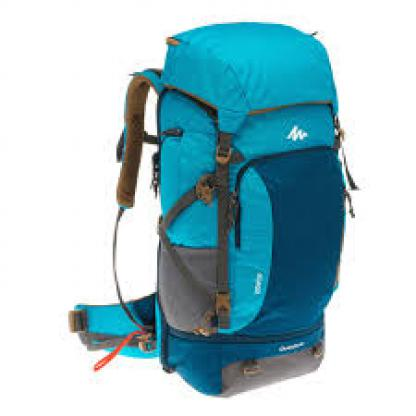morral: (61, 15, 386, 401)
